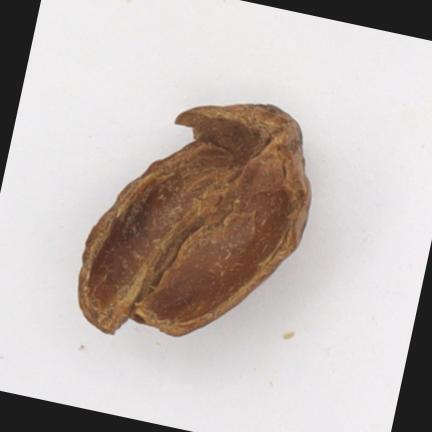full-black: (79, 104, 311, 336)
